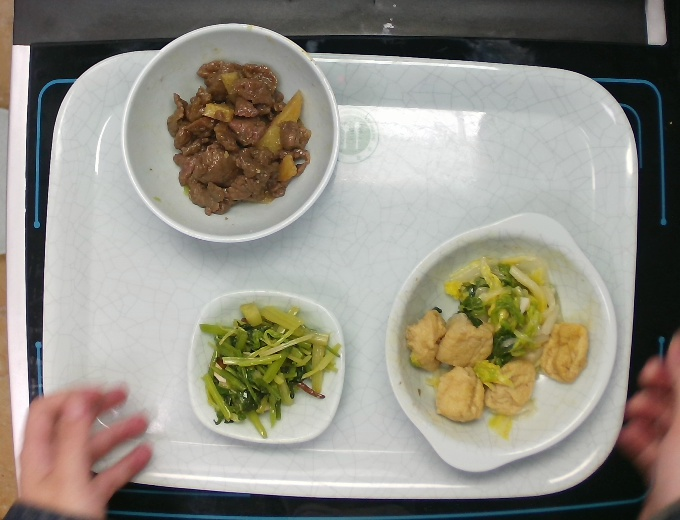JYsf-Fan_Wan: (112, 19, 344, 248)
JYsf-Shuang_Er_Wan: (379, 208, 619, 473)
JYsf-Si_Fang_Die: (173, 268, 354, 453)
